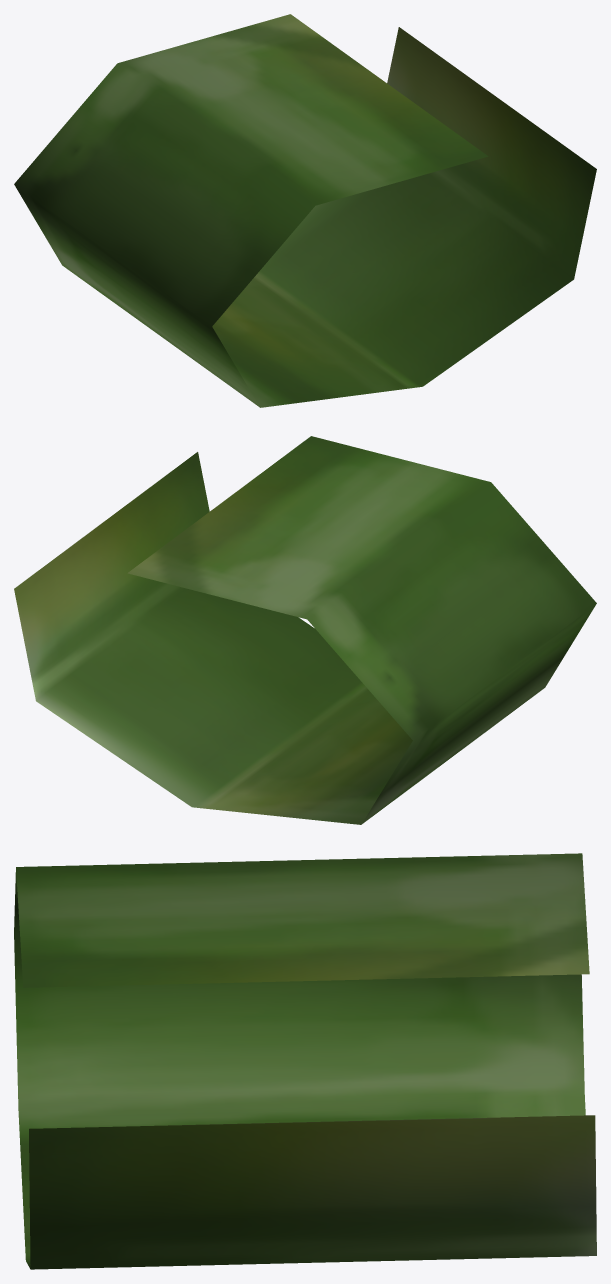
File: Ramen_GreenOnion_02_Free.FBX
The picture shows the model from 3 angles, top to bottom: view 1: azimuth 30°, elevation 25°; view 2: azimuth 150°, elevation 25°; view 3: azimuth 270°, elevation 25°; orthographic projection. The views are drawn at different scales.
Parts seen in each view (by area): view 1: Ramen_GreenOnion_02_Free; view 2: Ramen_GreenOnion_02_Free; view 3: Ramen_GreenOnion_02_Free.
Part boxes in pixels (<box>): Ramen_GreenOnion_02_Free: <box>14,14,596,407</box>; Ramen_GreenOnion_02_Free: <box>14,436,596,824</box>; Ramen_GreenOnion_02_Free: <box>14,853,596,1269</box>.
Bounding box in the file's own units: 5.93 × 3.13 × 5.05.
